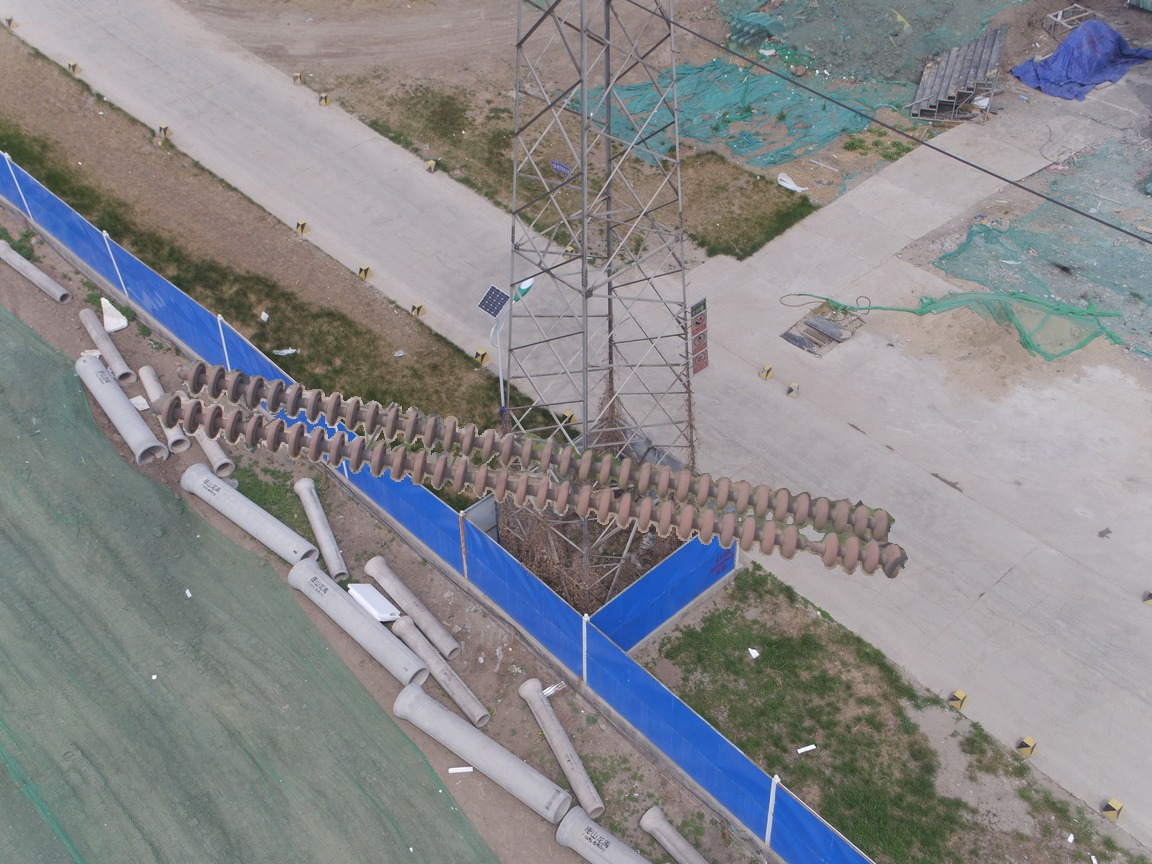defect: (779, 518, 843, 569)
